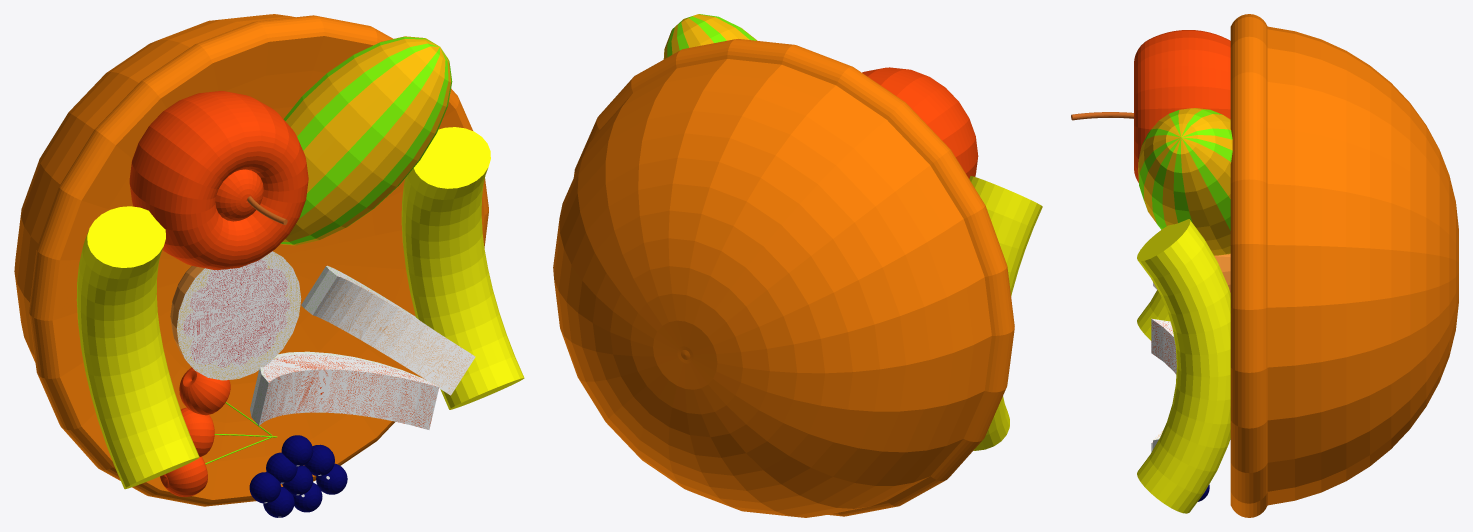
The picture shows the model from 3 angles, left to right: view 1: azimuth 30°, elevation 25°; view 2: azimuth 150°, elevation 25°; view 3: azimuth 270°, elevation 25°; orthographic projection. The views are drawn at different scales.
Visible parts, largest first — view 1: fruits; view 2: fruits; view 3: fruits.
Boxes of the visible parts, box(x1,y1,x2,y2) form: fruits: box(14, 14, 524, 517); fruits: box(553, 14, 1042, 517); fruits: box(1071, 14, 1458, 517).
Size of the model in its own units: 319 by 319 by 245.
